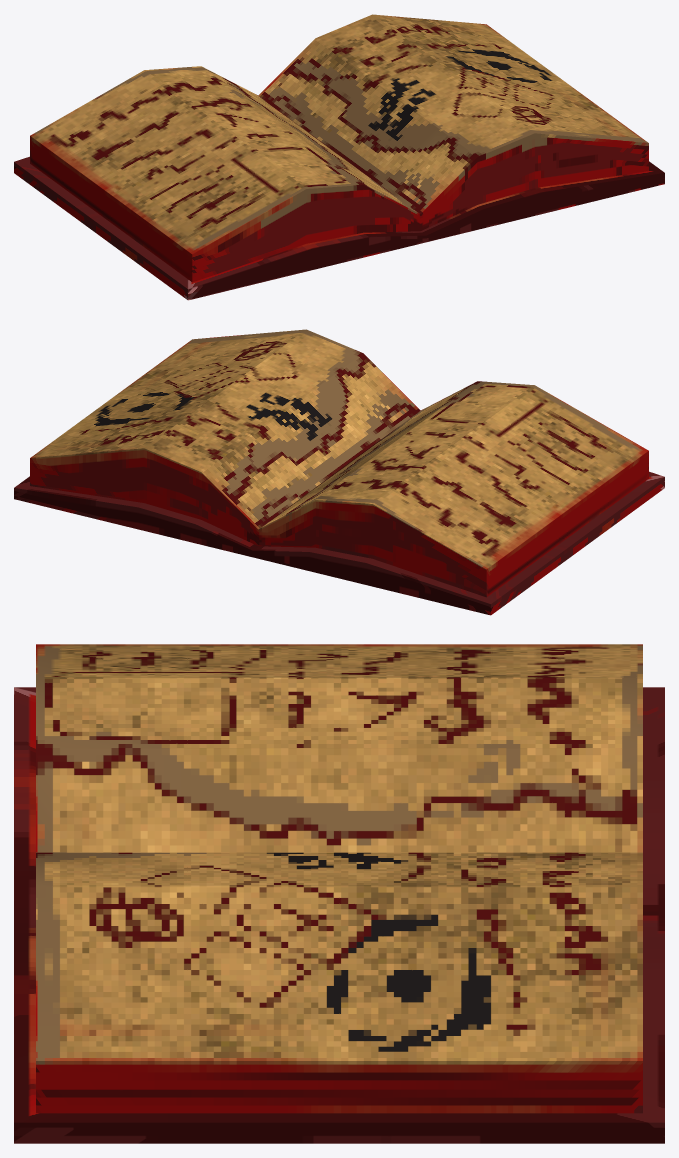
File: livroaberto.glb
3 renders of one model, top to bottom at view 1: azimuth 30°, elevation 25°; view 2: azimuth 150°, elevation 25°; view 3: azimuth 270°, elevation 25°, orthographic. The views are drawn at different scales.
Parts seen in each view (by area): view 1: book_02; view 2: book_02; view 3: book_02.
Boxes of the visible parts, box(x1,y1,x2,y2) form: book_02: box(14, 14, 664, 300); book_02: box(14, 329, 664, 615); book_02: box(14, 644, 664, 1143).
Bounding box in the file's own units: 0.7497 × 0.1155 × 0.4739.
Materials: 1 (1 with a texture image).
